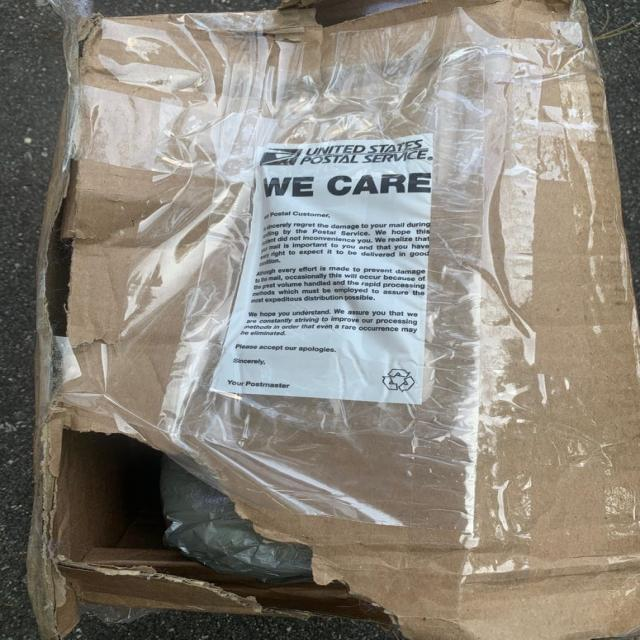hole: (47, 405, 357, 626)
